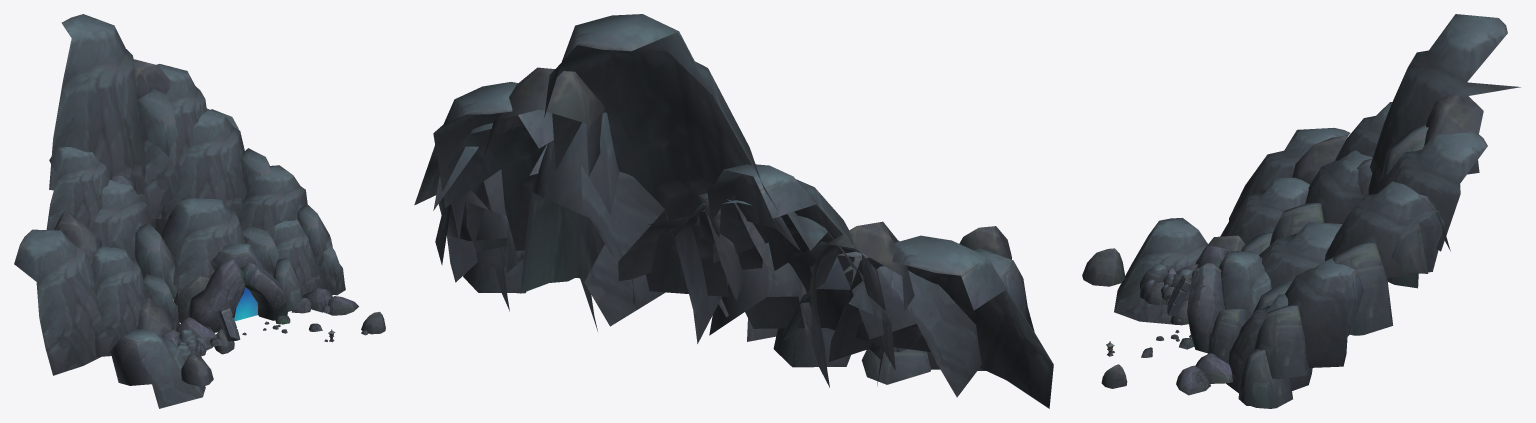
File: Area_01_1.fbx
3 renders of one model, left to right at view 1: azimuth 30°, elevation 25°; view 2: azimuth 150°, elevation 25°; view 3: azimuth 270°, elevation 25°, orthographic. The views are drawn at different scales.
Parts seen in each view (by area): view 1: Area_01_1; view 2: Area_01_1; view 3: Area_01_1.
Part boxes in pixels (x1,y1,x2,y2): Area_01_1: [14, 14, 385, 408]; Area_01_1: [414, 14, 1053, 408]; Area_01_1: [1082, 14, 1520, 408].
Bounding box in the file's own units: 6813 × 5586 × 7013.
